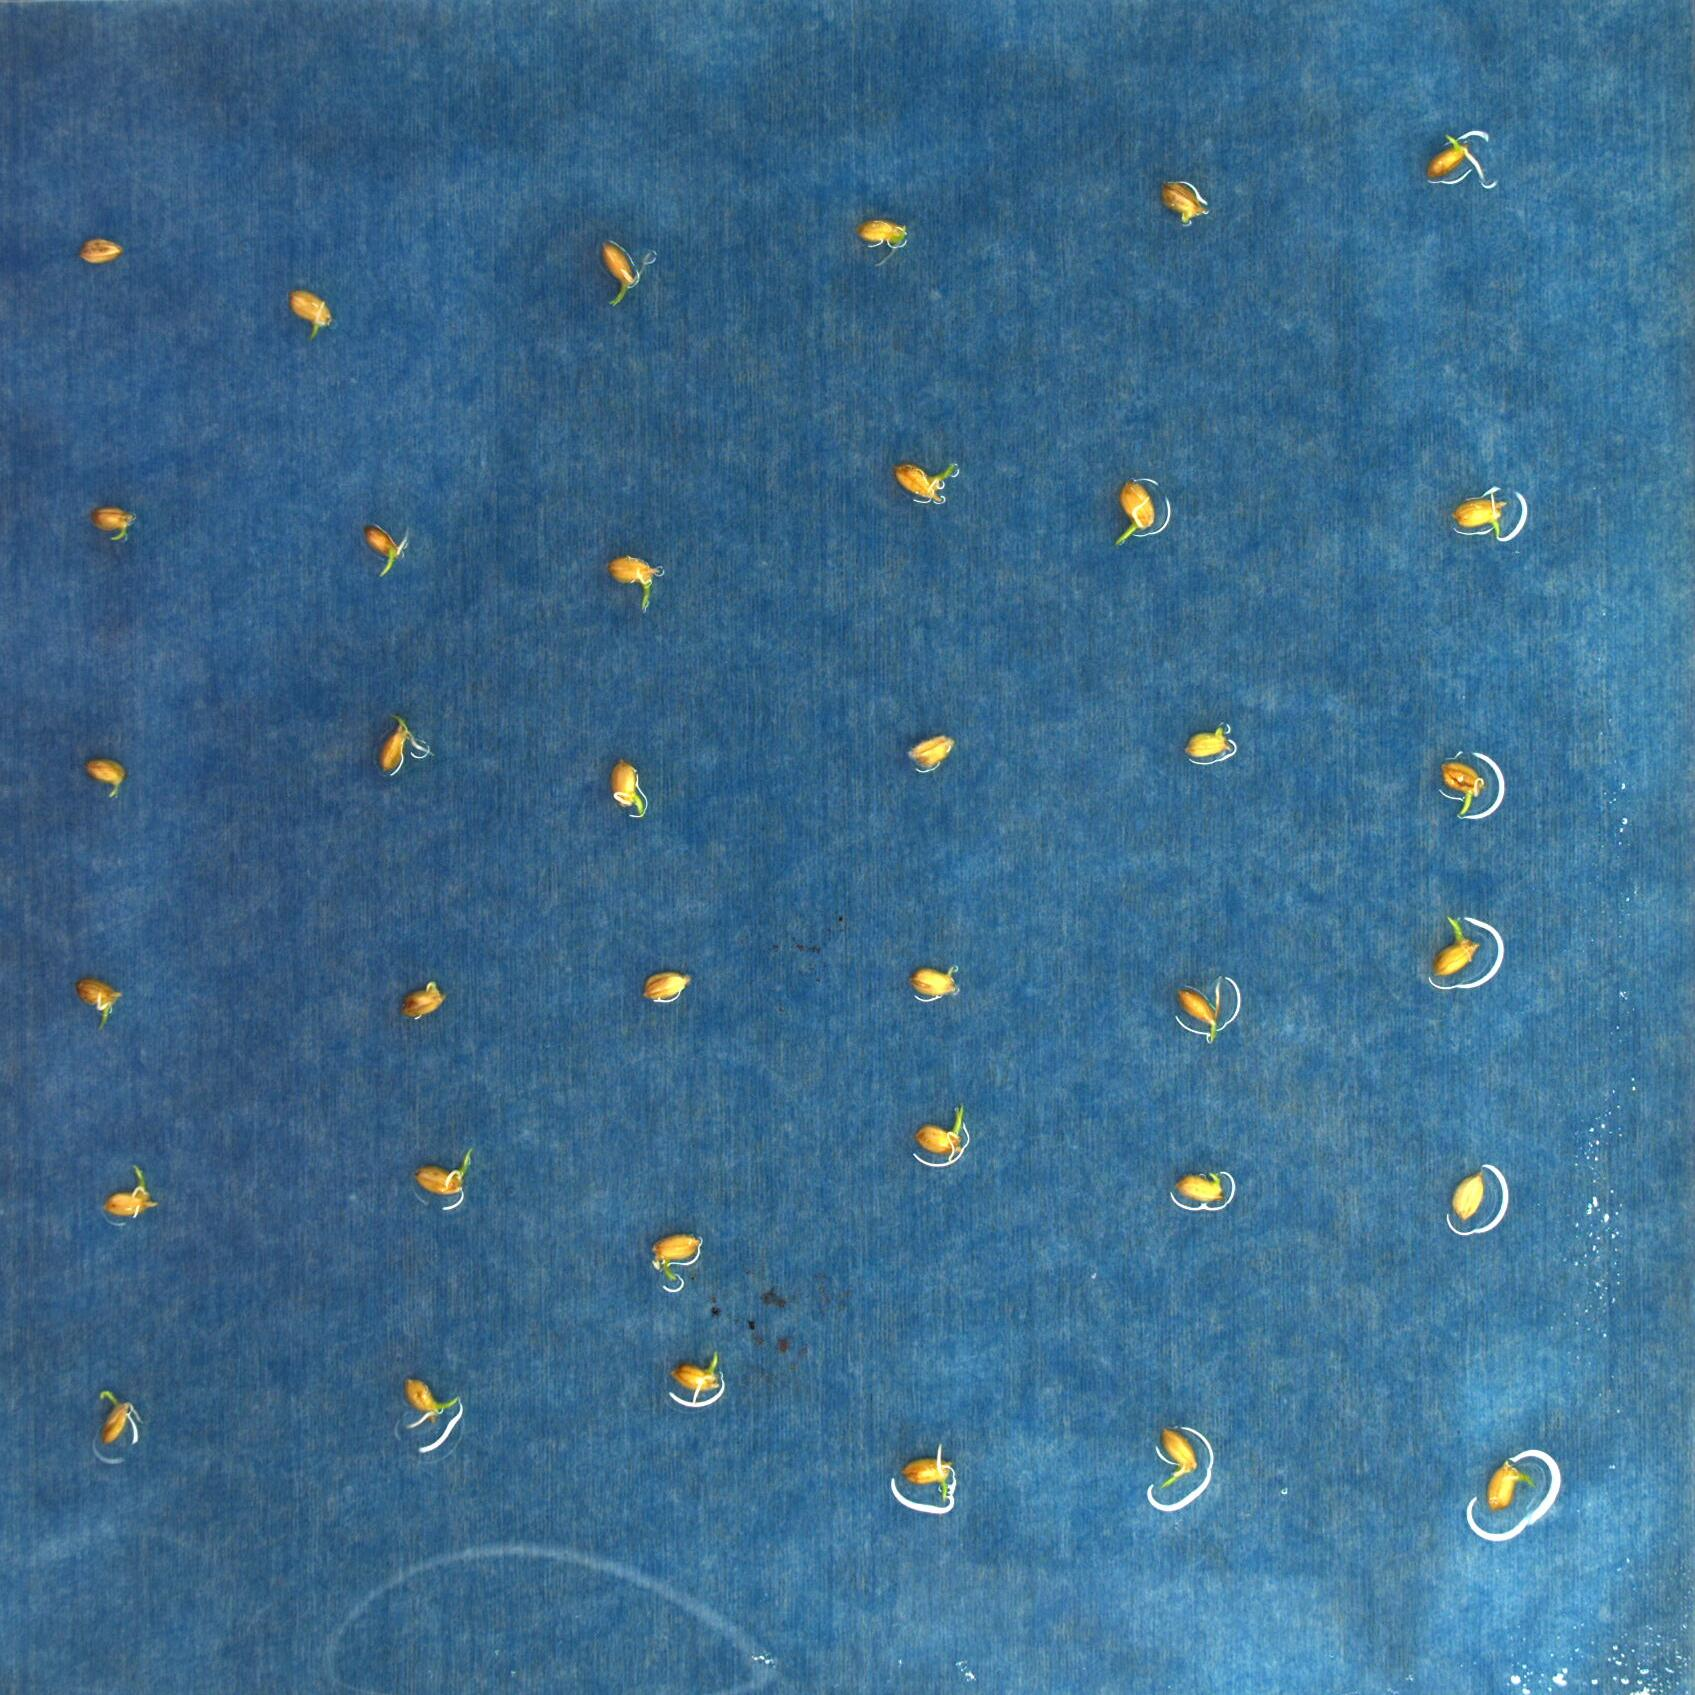not sprout: (1419, 130, 1493, 192), (1167, 975, 1225, 1046), (379, 719, 432, 775), (664, 1347, 722, 1399), (1453, 486, 1507, 539), (1178, 719, 1239, 764), (903, 962, 964, 1007), (1447, 1166, 1495, 1222), (1487, 1458, 1534, 1510), (78, 979, 123, 1032), (1156, 179, 1211, 220), (289, 293, 332, 343), (608, 761, 647, 815), (906, 734, 959, 771), (1173, 1166, 1226, 1203), (643, 970, 691, 1007), (400, 979, 441, 1021), (85, 759, 127, 798), (76, 237, 124, 264)
sprout: (400, 1374, 464, 1437), (591, 241, 650, 304), (413, 1146, 477, 1200), (897, 1437, 951, 1501), (1434, 753, 1485, 820), (92, 1167, 158, 1218), (893, 459, 964, 504), (610, 557, 661, 618), (1152, 1423, 1194, 1496), (1113, 480, 1156, 548), (644, 1232, 702, 1284), (1433, 911, 1478, 976), (917, 1104, 970, 1158), (95, 1385, 140, 1448), (365, 520, 410, 577), (857, 220, 910, 265), (95, 508, 133, 543)
